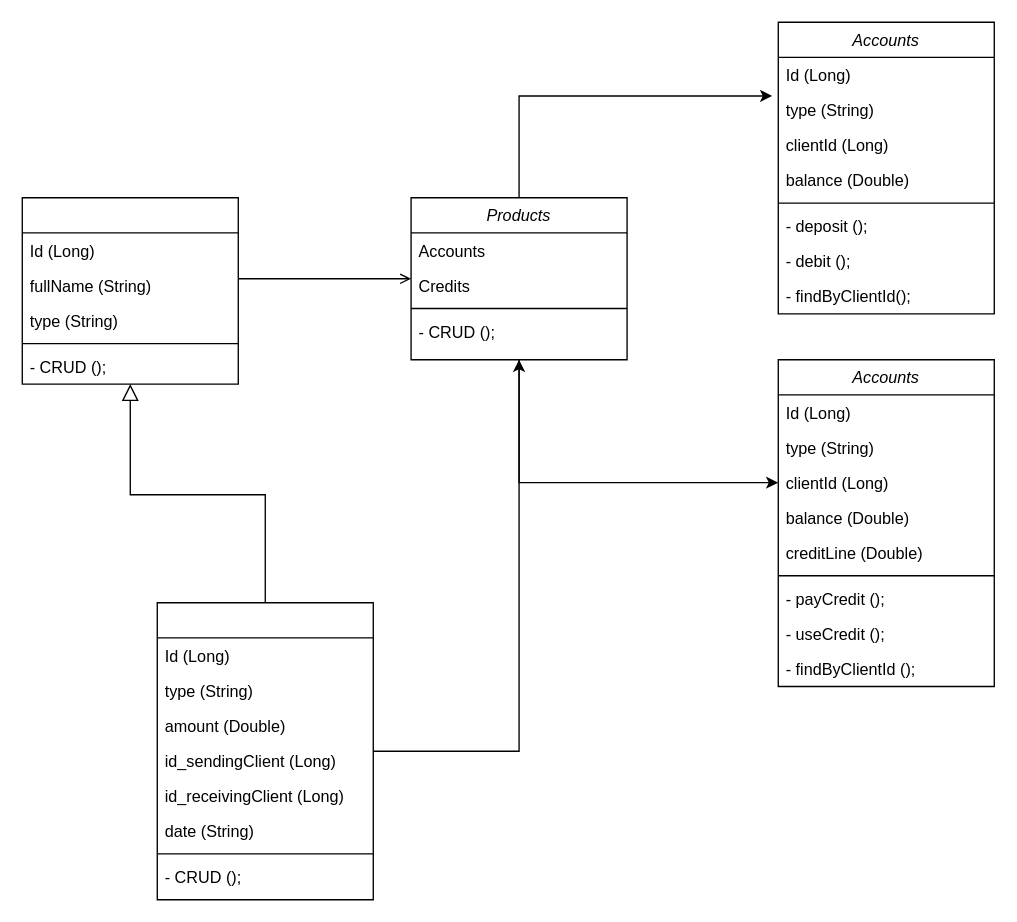
The diagram is 1017 pixels wide and 922 high, and some of its shapes have lost their labels. Each missing label, with the box of its shape:
Clients: (21, 196, 238, 384)
Transactions: (156, 601, 373, 900)
